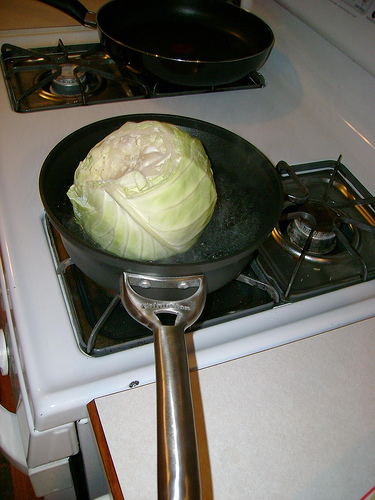cabbage: (65, 118, 220, 261)
